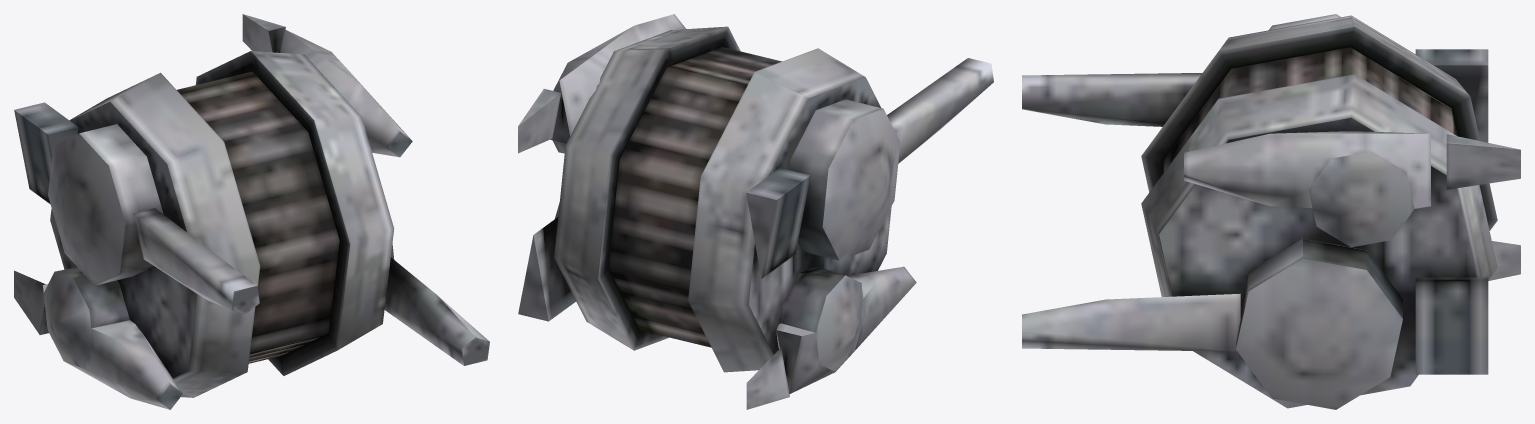
File: spacestation_turret_body_s01_l2.fbx
3 views of the same model, side by side, from view 1: azimuth 30°, elevation 25°; view 2: azimuth 150°, elevation 25°; view 3: azimuth 270°, elevation 25° (orthographic). The views are drawn at different scales.
Parts seen in each view (by area): view 1: mesh_node; view 2: mesh_node; view 3: mesh_node.
Part boxes in pixels (left/top/right/bottom): mesh_node: left=14, top=14, right=489, bottom=409; mesh_node: left=518, top=14, right=993, bottom=409; mesh_node: left=1022, top=14, right=1520, bottom=409.
Size of the model in its own units: 5.74 by 5.28 by 7.37.
